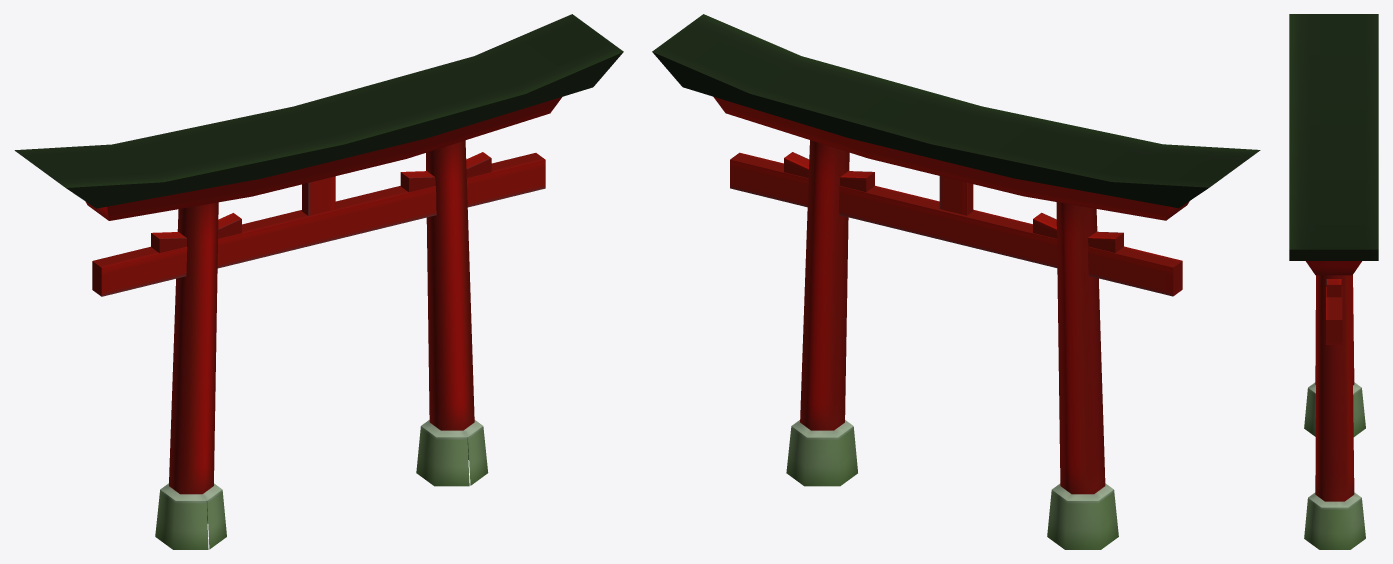
File: shrine.FBX
The picture shows the model from 3 angles, left to right: view 1: azimuth 30°, elevation 25°; view 2: azimuth 150°, elevation 25°; view 3: azimuth 270°, elevation 25°; orthographic projection. The views are drawn at different scales.
Parts seen in each view (by area): view 1: shrine; view 2: shrine; view 3: shrine.
Part boxes in pixels (bbox=[...]): shrine: bbox=[14, 14, 623, 549]; shrine: bbox=[652, 14, 1260, 549]; shrine: bbox=[1289, 14, 1378, 549].
Size of the model in its own units: 205532 by 142541 by 32909.
